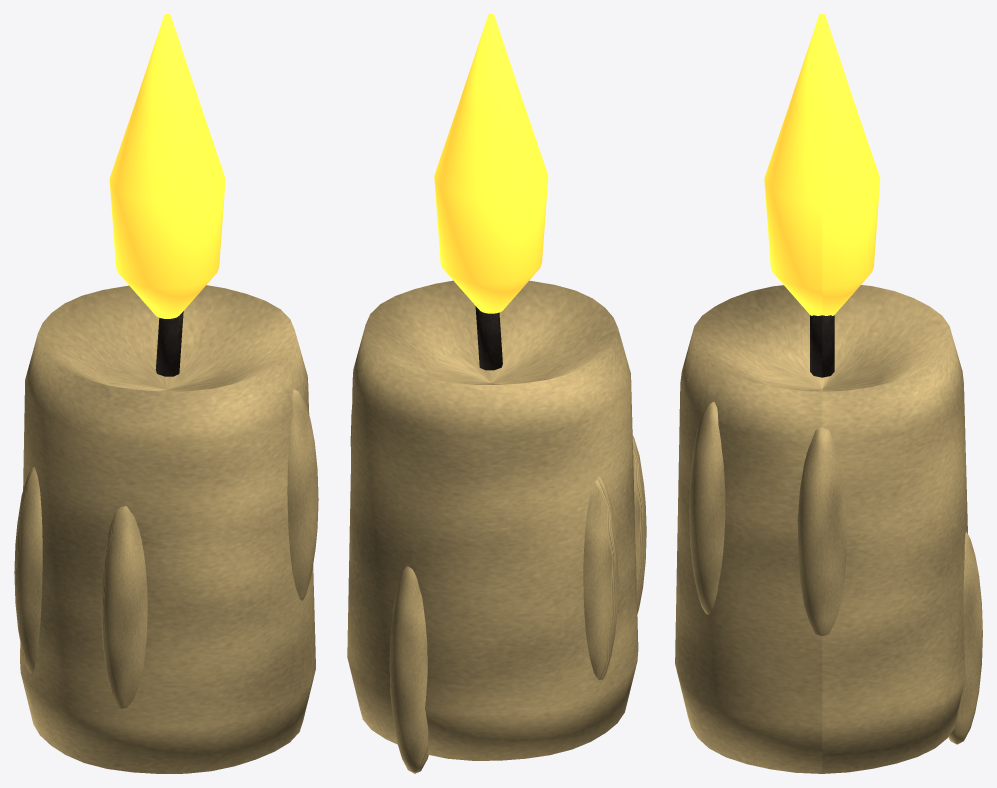
The model's file is candle_stub_lit.glb.
3 views of the same model, side by side, from view 1: azimuth 30°, elevation 25°; view 2: azimuth 150°, elevation 25°; view 3: azimuth 270°, elevation 25° (orthographic).
Visible parts, largest first — view 1: wax, flame, wick; view 2: wax, flame, wick; view 3: wax, flame, wick.
Boxes of the visible parts, bbox=[...] form: wax: bbox=[14, 285, 318, 773]; flame: bbox=[109, 14, 225, 318]; wick: bbox=[155, 311, 183, 376]; wax: bbox=[347, 280, 646, 773]; flame: bbox=[434, 14, 548, 313]; wick: bbox=[475, 306, 502, 370]; wax: bbox=[675, 285, 982, 773]; flame: bbox=[764, 14, 880, 315]; wick: bbox=[810, 315, 834, 377].
Bounding box in the file's own units: 0.0497 × 0.124 × 0.0478.
Materials: 4 (4 with a texture image).
